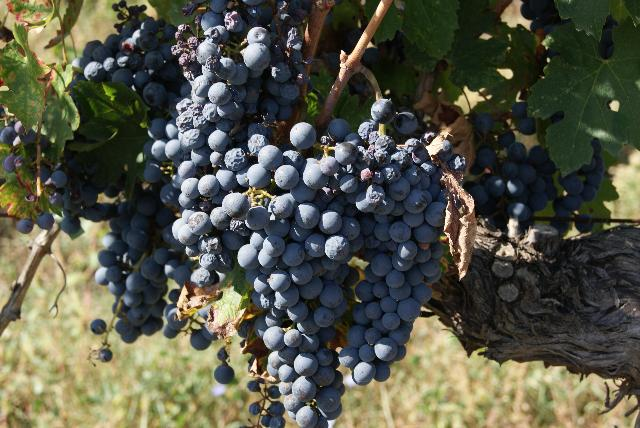grapes: (295, 119, 448, 384)
